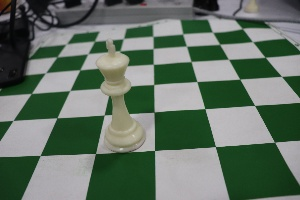white_king: (85, 30, 150, 159)
